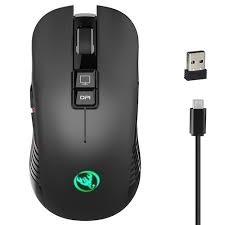mouse: (29, 5, 138, 217)
